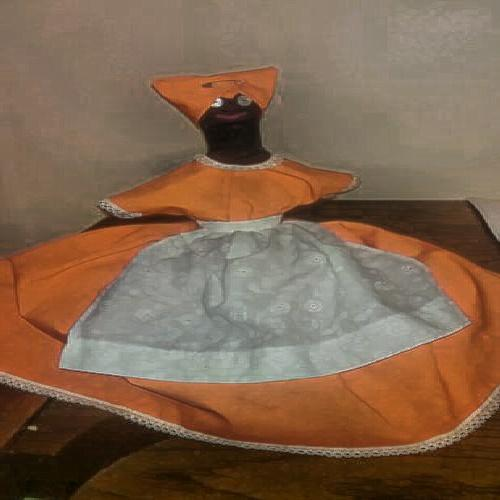toaster: (97, 87, 466, 437)
